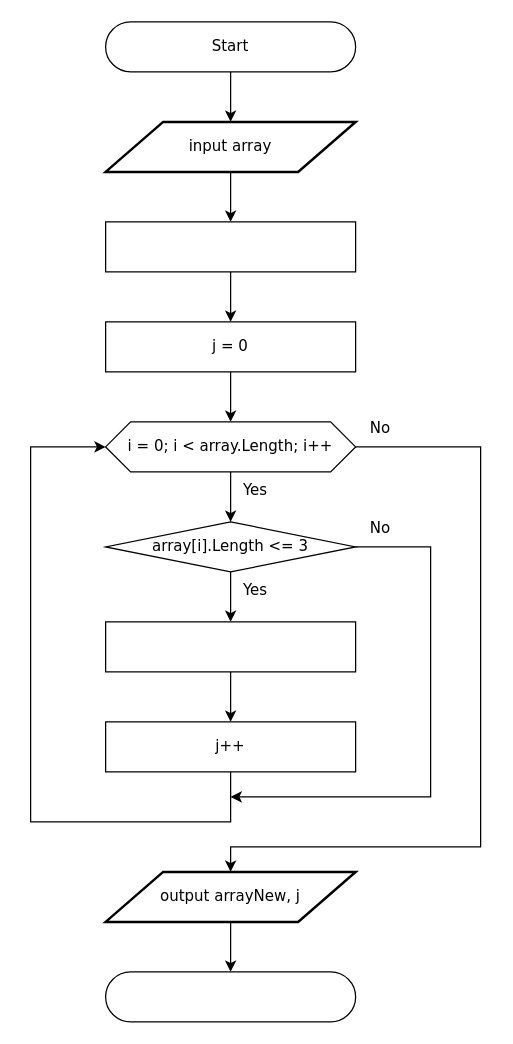
Image size: 513x1044. Some labels were removed from this diagram. Each missing label, with the centre of its shape:
arrayNew = new string[array.Length]: (230,246)
arrayNew[j] = array[i]: (230,646)
end: (230,996)
